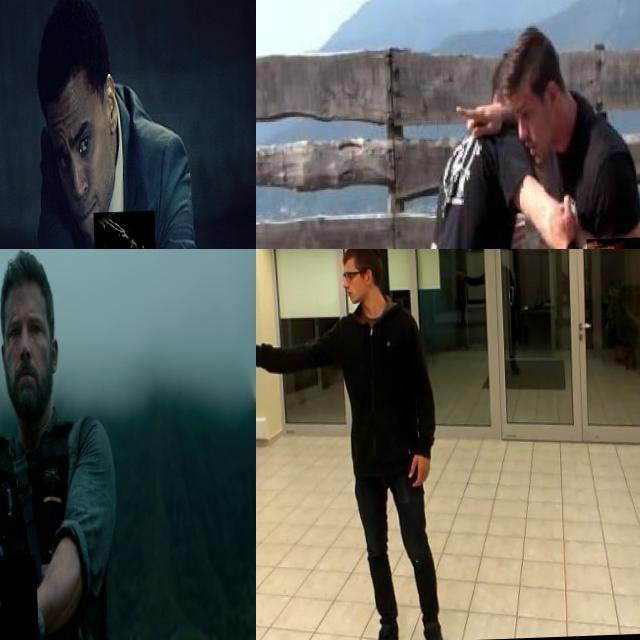gun-knife-thesis - v11 Yolov5 augmented: (0, 557, 36, 640), (90, 212, 157, 249), (256, 322, 277, 361)
